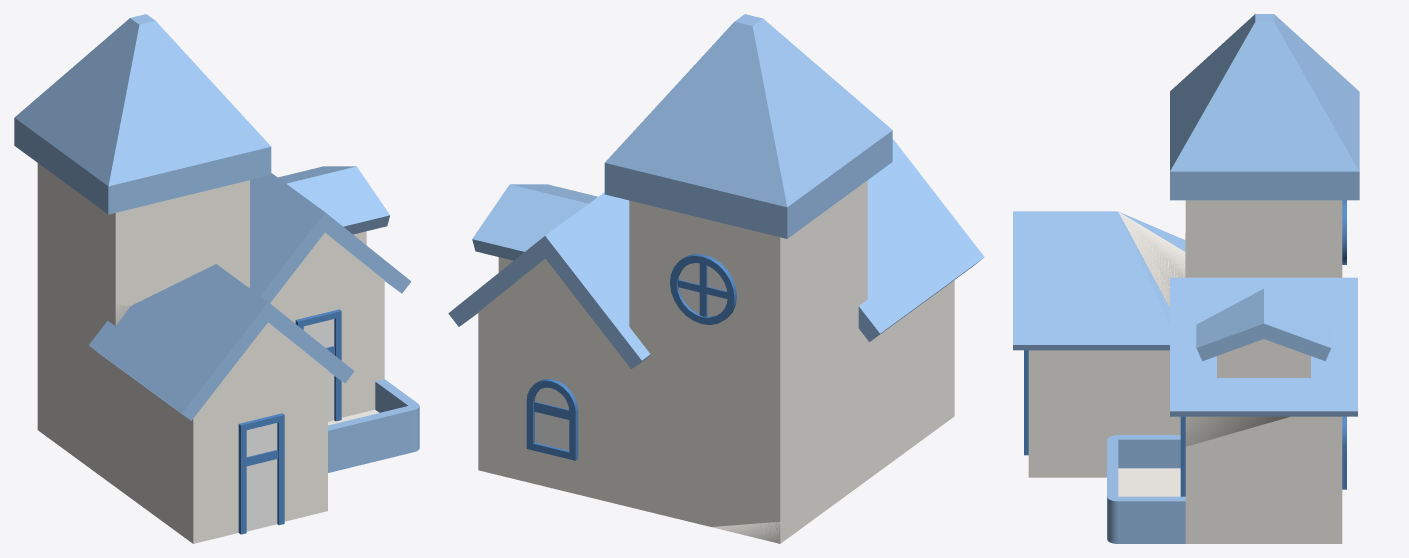
The model's file is Final Shatter House 5.fbx.
The picture shows the model from 3 angles, left to right: view 1: azimuth 30°, elevation 25°; view 2: azimuth 150°, elevation 25°; view 3: azimuth 270°, elevation 25°; orthographic projection. The views are drawn at different scales.
Parts seen in each view (by area): view 1: polySurface165, polySurface101, polySurface166; view 2: polySurface165, polySurface166, polySurface101; view 3: polySurface165, polySurface101, polySurface166.
Part boxes in pixels (box(x1,y1,x2,y2)): polySurface165: box(14, 14, 411, 326); polySurface101: box(37, 264, 419, 543); polySurface166: box(37, 194, 384, 429); polySurface165: box(448, 14, 892, 360); polySurface166: box(478, 270, 867, 543); polySurface101: box(711, 139, 984, 543); polySurface165: box(1170, 14, 1359, 446); polySurface101: box(1013, 211, 1277, 543); polySurface166: box(1185, 232, 1346, 543).
Bounding box in the file's own units: 228 × 300 × 244.
